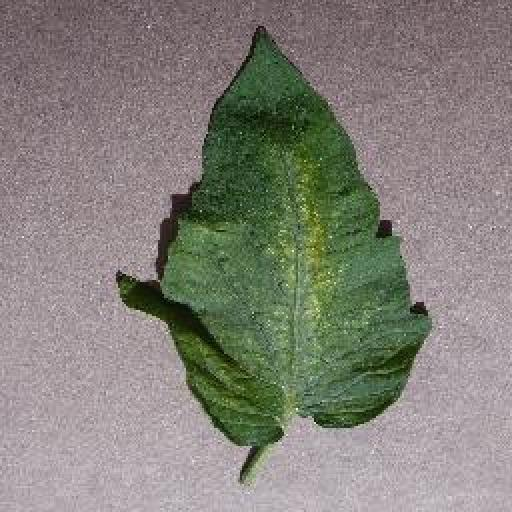disease_tomato: (116, 24, 431, 445)
